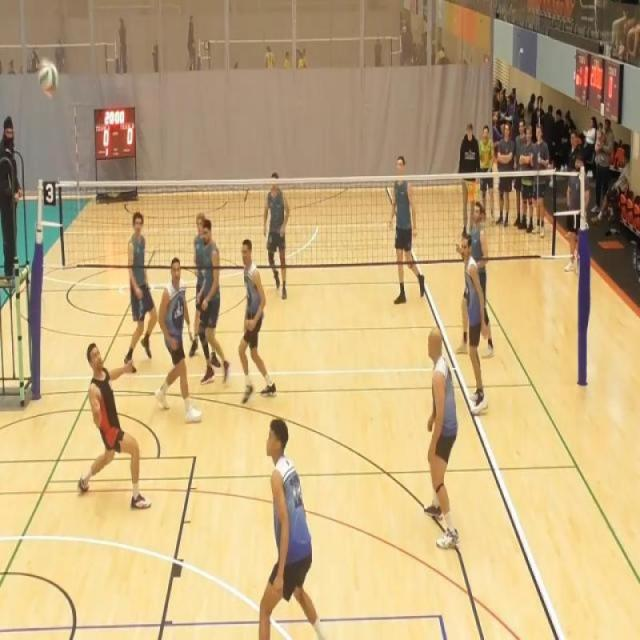volleyball: (37, 56, 60, 100)
